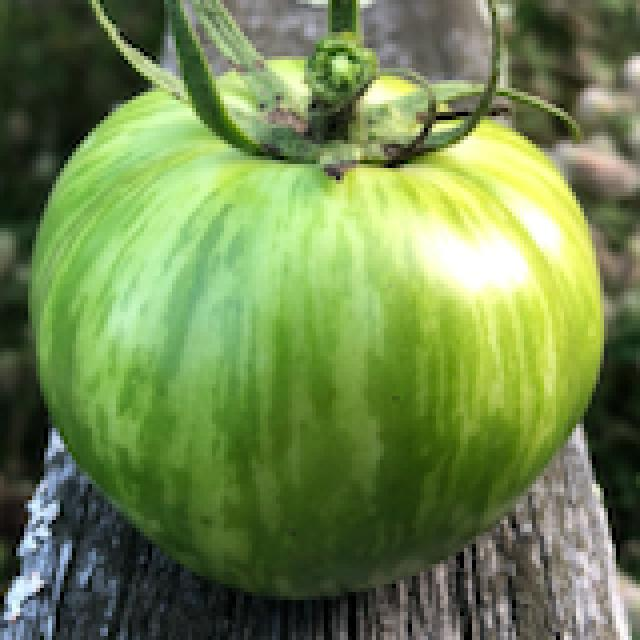yesil: (22, 20, 609, 598)
